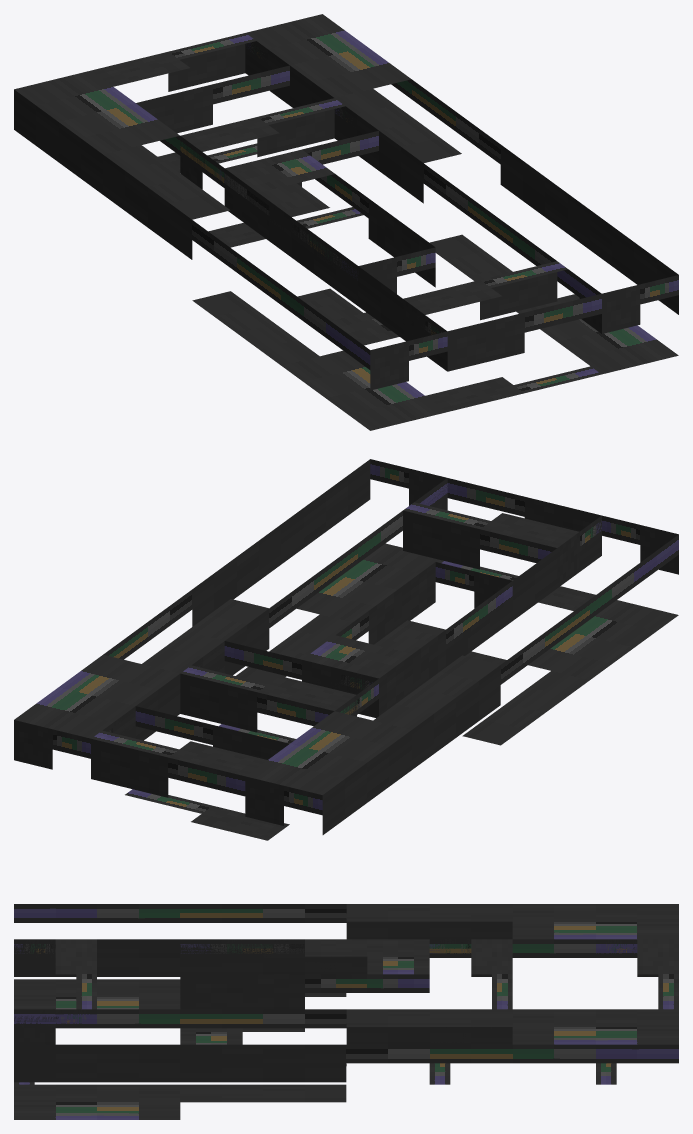
Rendered from paperclip.obj.
3 renders of one model, top to bottom at view 1: azimuth 30°, elevation 25°; view 2: azimuth 150°, elevation 25°; view 3: azimuth 270°, elevation 25°, orthographic. The views are drawn at different scales.
Visible parts, largest first — view 1: clip; view 2: clip; view 3: clip.
Part boxes in pixels (bbox=[...]): clip: bbox=[14, 14, 678, 430]; clip: bbox=[14, 459, 678, 840]; clip: bbox=[14, 904, 678, 1119].
Bounding box in the file's own units: 0.0312 × 0.00781 × 0.0625.
